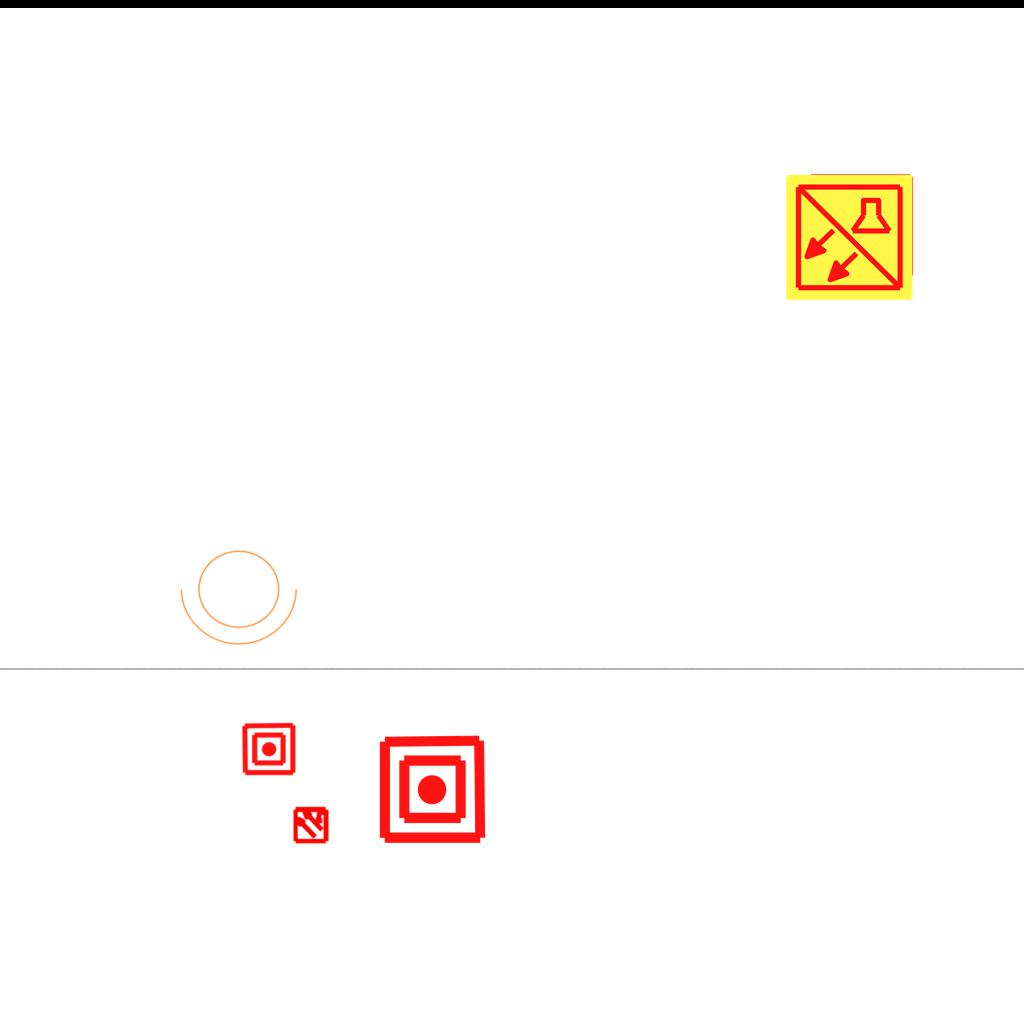NAM-Nichtautomatischer_Melder: (376, 733, 489, 846), (241, 721, 297, 777)
OKW_Multisensormelder_(Kombination_optischer_Rauch-Kahlenmonoxid_Waerme-Melder): (783, 171, 915, 303)
OT_Multisensormelder_(Kombination_RMO_WMD): (283, 796, 339, 852)
Scheinwerfer_fuer_Alarmbeleuchtung: (176, 538, 308, 650)
